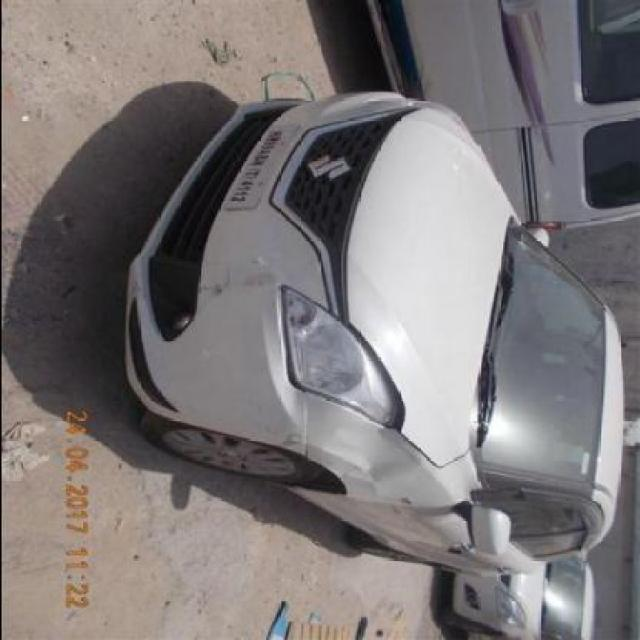damage: (346, 441, 421, 503), (199, 253, 287, 297)
